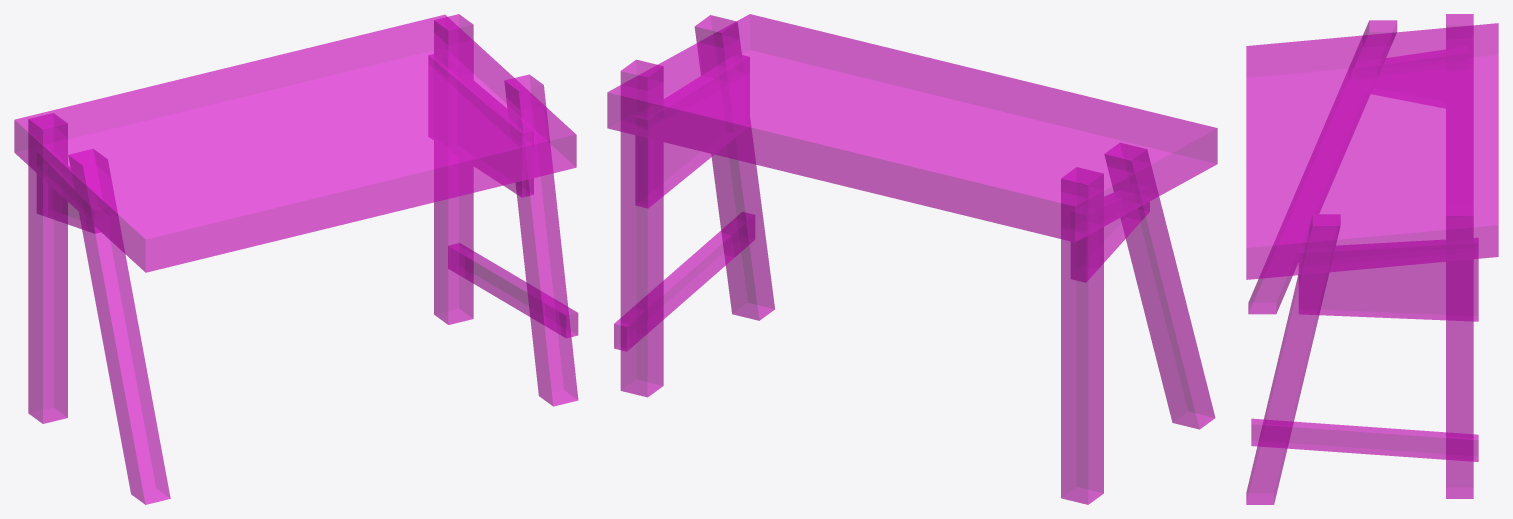
Rendered from SM_Prop_Tent_02_Collision.fbx.
3 views of the same model, side by side, from view 1: azimuth 30°, elevation 25°; view 2: azimuth 150°, elevation 25°; view 3: azimuth 270°, elevation 25° (orthographic). The views are drawn at different scales.
Parts seen in each view (by area): view 1: SM_Prop_Tent_02_Collision; view 2: SM_Prop_Tent_02_Collision; view 3: SM_Prop_Tent_02_Collision.
Boxes of the visible parts, x1=… form: SM_Prop_Tent_02_Collision: x1=14, y1=14, x2=578, y2=504; SM_Prop_Tent_02_Collision: x1=607, y1=14, x2=1217, y2=504; SM_Prop_Tent_02_Collision: x1=1246, y1=14, x2=1498, y2=504.
Size of the model in its own units: 429 by 283 by 224.
